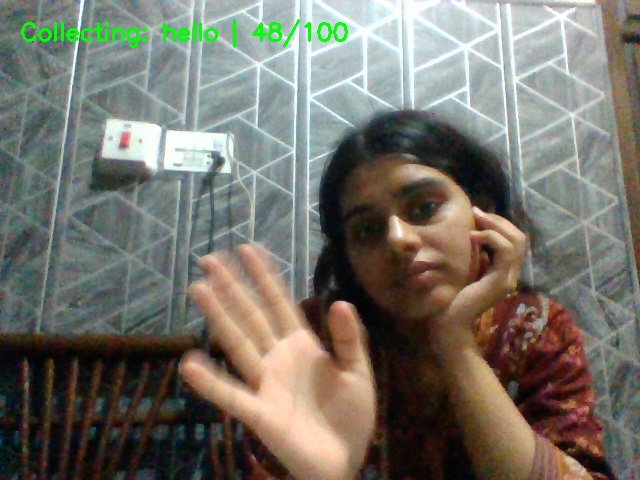hello: (162, 248, 387, 472)
